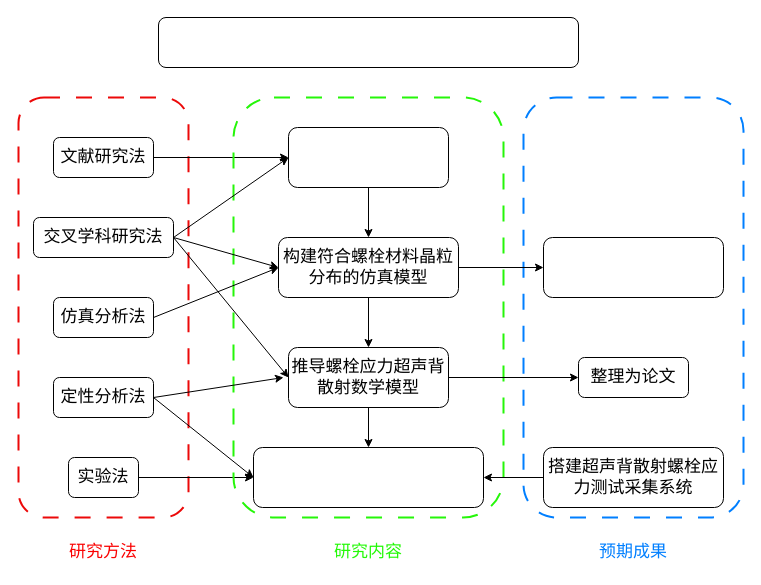
This 761x585 diagram has some shape labels left out. The shapes that lost their labels are listed below. From the top down, each one's centre as x and y in pixels, then its label:
the point at 368,42: 基于超声背散射的螺栓应力测量方法研究
the point at 368,157: 深入认识多晶材料超声背散射理论
the point at 633,267: 分析空间相关函数参数对应力敏感性的影响
the point at 368,477: 建立模型与实验数据的反解关系，分析测试系统参数影响
